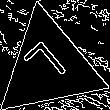L_SE: (21, 37, 76, 95)
